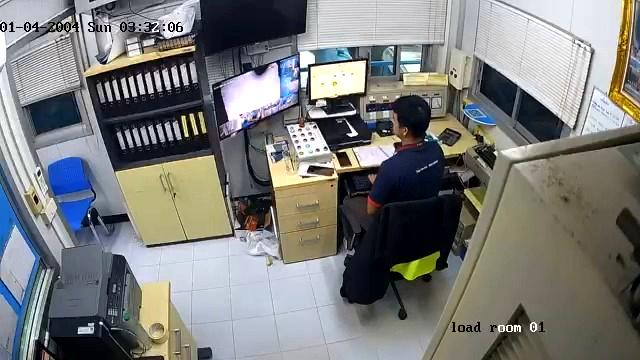Head: (392, 95, 430, 139)
People: (342, 95, 444, 232)
Phone: (307, 165, 333, 175), (336, 152, 351, 166)
